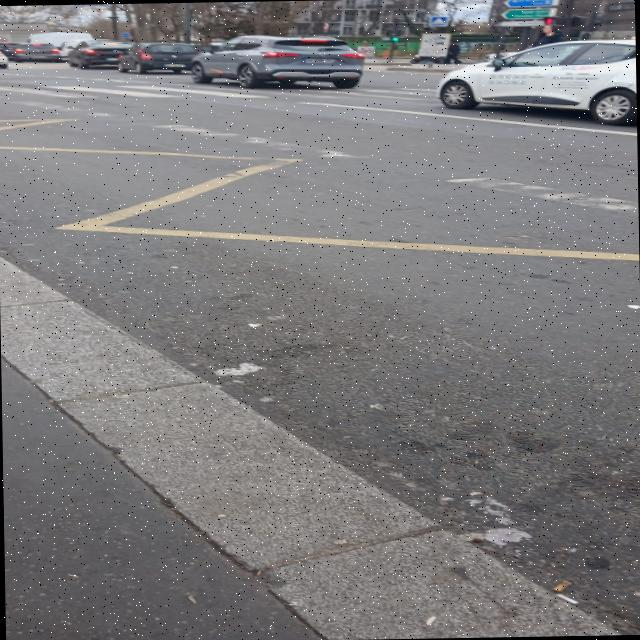Autre: (301, 54, 352, 68)
